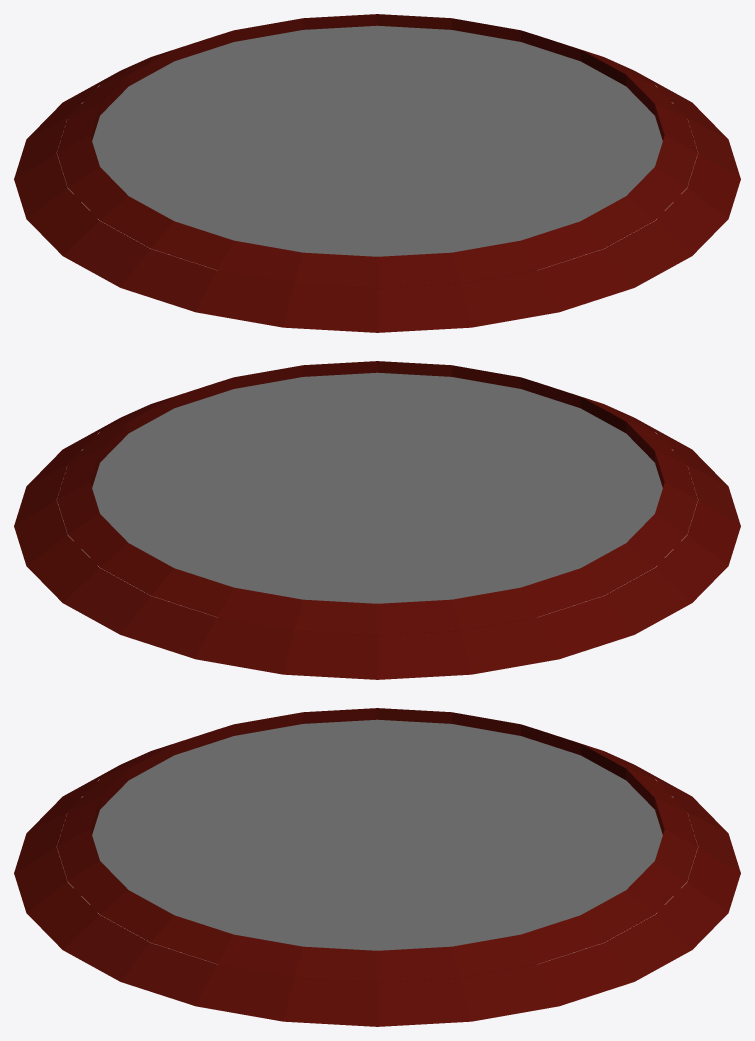
The model's file is arena1.glb.
3 renders of one model, top to bottom at view 1: azimuth 30°, elevation 25°; view 2: azimuth 150°, elevation 25°; view 3: azimuth 270°, elevation 25°, orthographic.
Visible parts, largest first — view 1: Cylinder, Cone, Torus; view 2: Cylinder, Cone, Torus; view 3: Cylinder, Cone, Torus.
Boxes of the visible parts, x1,y1,x2,y2 form: Cylinder: (92, 25, 662, 256); Cone: (14, 58, 740, 332); Torus: (57, 14, 697, 288); Cylinder: (92, 372, 662, 603); Cone: (14, 405, 740, 679); Torus: (57, 361, 697, 635); Cylinder: (92, 719, 662, 950); Cone: (14, 752, 740, 1026); Torus: (57, 708, 697, 982).
Bounding box in the file's own units: 18.28 × 1.22 × 18.28.
